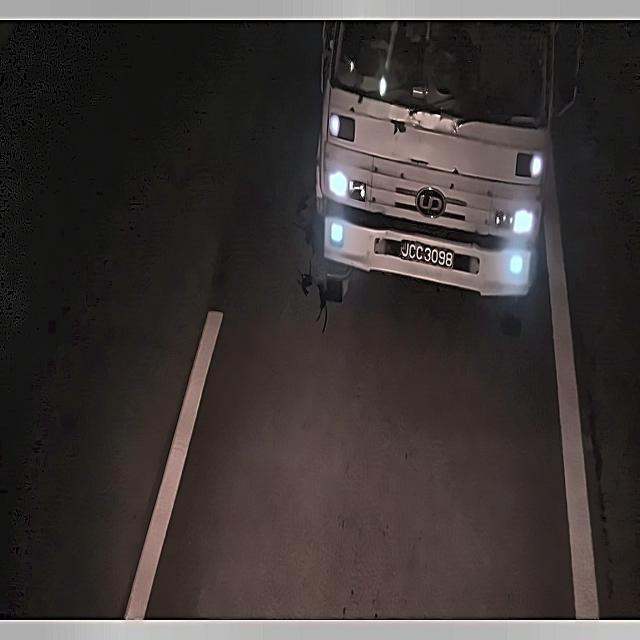car: (391, 236, 459, 278)
